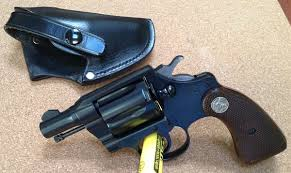gun: (35, 54, 290, 165)
